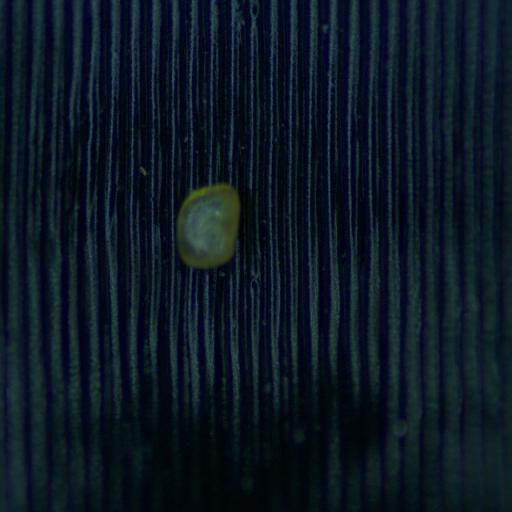mineral: (175, 182, 242, 271)
